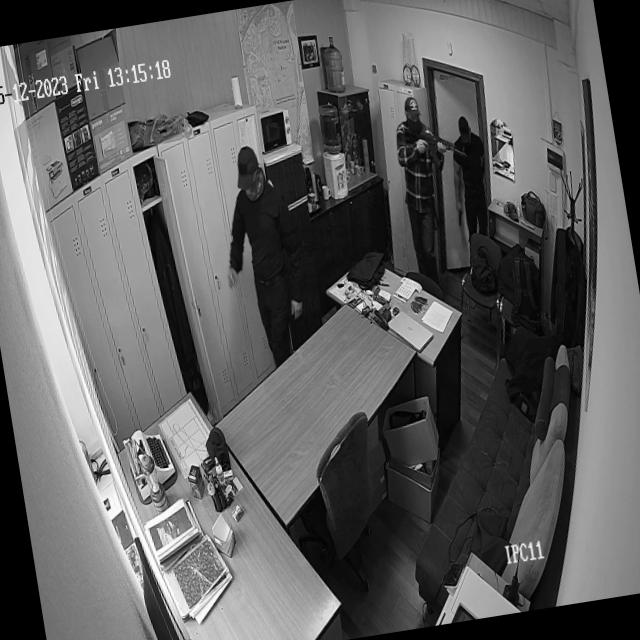gun: (399, 130, 466, 162), (456, 202, 471, 244)
person: (210, 143, 320, 397)
person with a gun: (385, 86, 487, 275), (442, 118, 504, 272)
